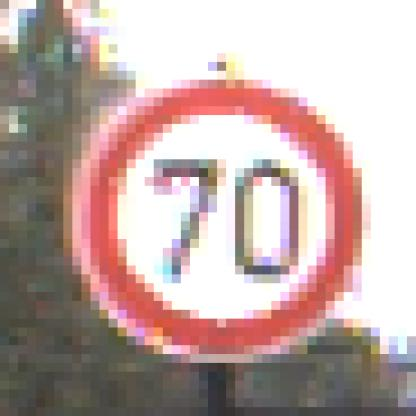Speed Limit 70: (80, 79, 362, 360)
